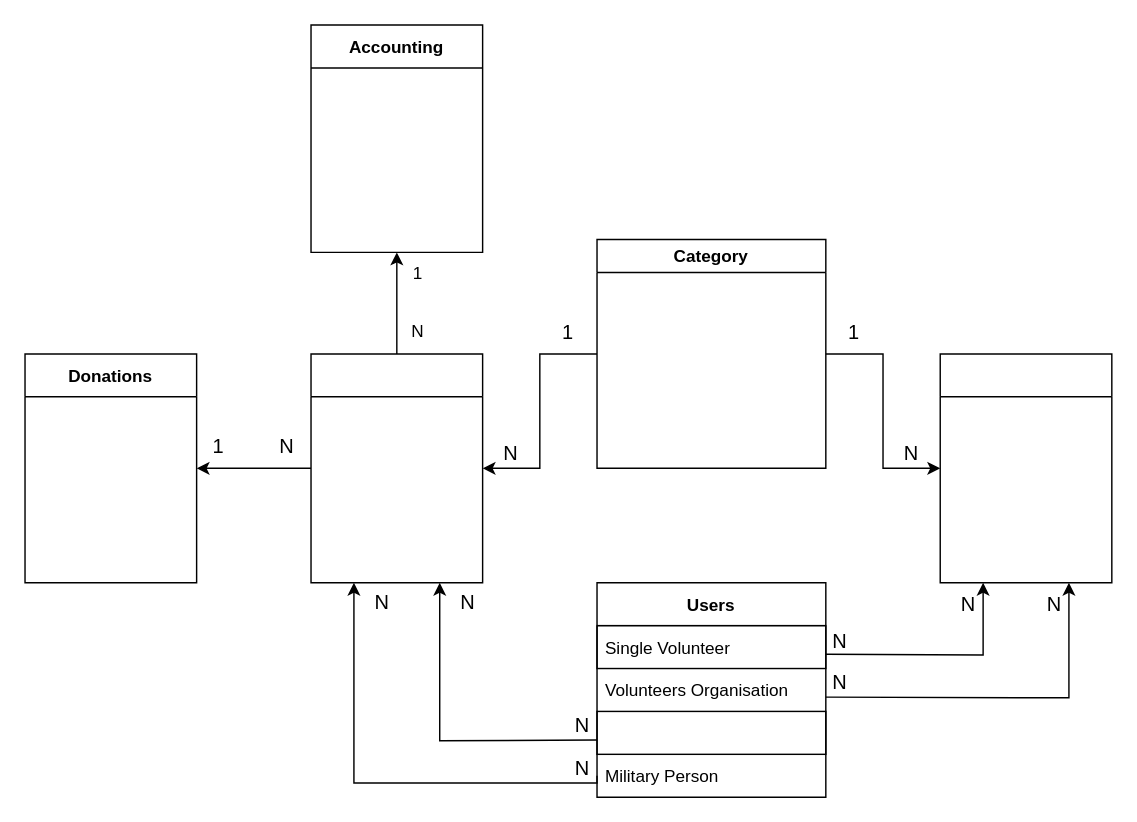
The diagram is 1137 pixels wide and 822 high, and some of its shapes have lost their labels. Each missing label, with the centre of its shape:
"Civil Person" belongs at point (711, 732).
"Needs" belongs at point (396, 467).
"Opportunities" belongs at point (1025, 467).
